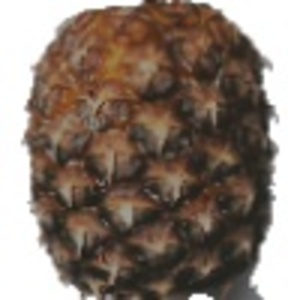abacaxi: (21, 1, 279, 298)
